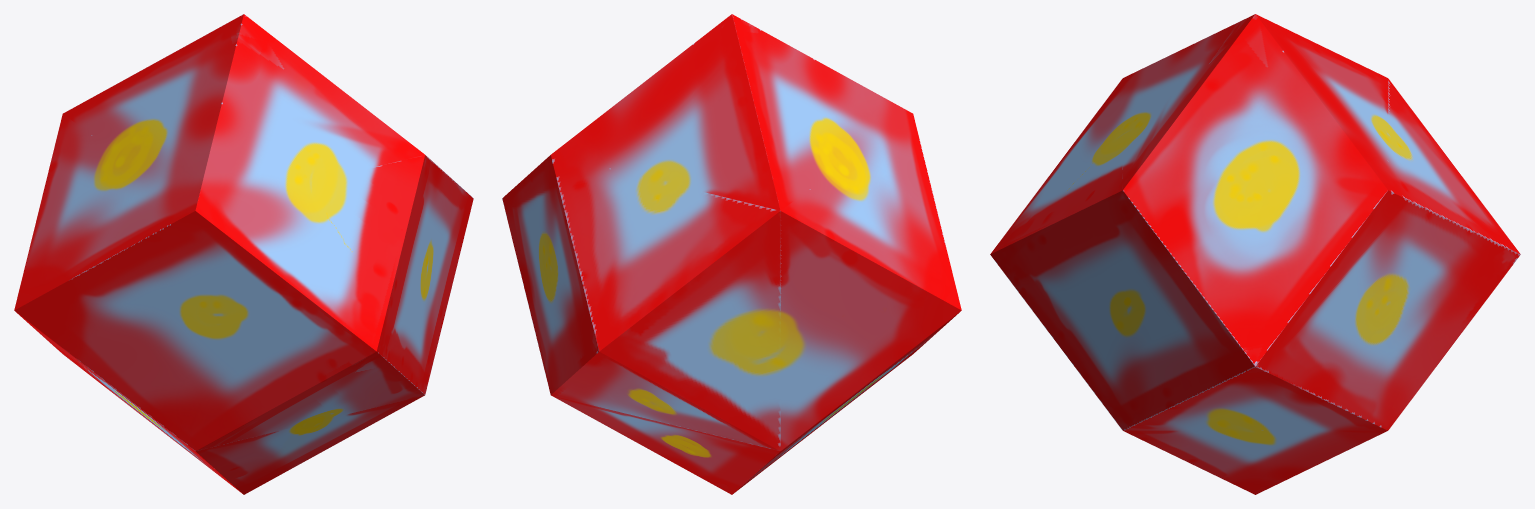
Rendered from simulator_spike_mine_v1.glb.
The picture shows the model from 3 angles, left to right: view 1: azimuth 30°, elevation 25°; view 2: azimuth 150°, elevation 25°; view 3: azimuth 270°, elevation 25°; orthographic projection.
Parts seen in each view (by area): view 1: Spikey_Mine; view 2: Spikey_Mine; view 3: Spikey_Mine.
Boxes of the visible parts, x1=… form: Spikey_Mine: x1=14, y1=14, x2=473, y2=494; Spikey_Mine: x1=502, y1=14, x2=961, y2=494; Spikey_Mine: x1=990, y1=14, x2=1520, y2=494.
Size of the model in its own units: 4 by 4 by 4.
Materials: 1 (1 with a texture image).
